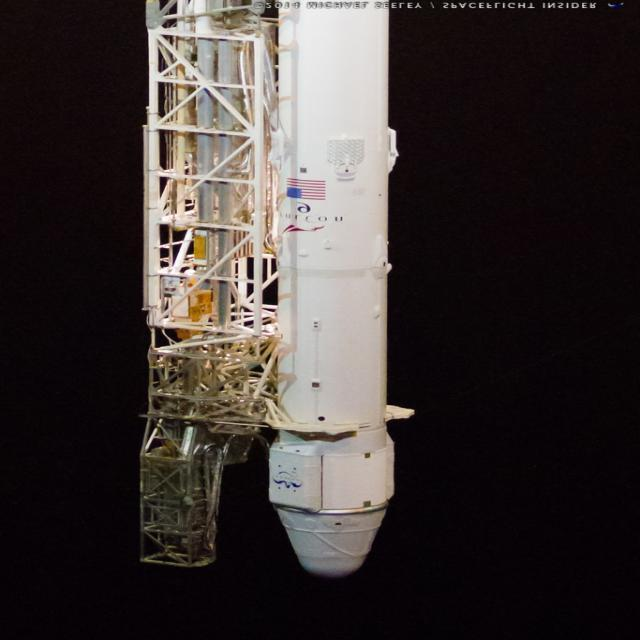missile: (268, 0, 410, 574)
